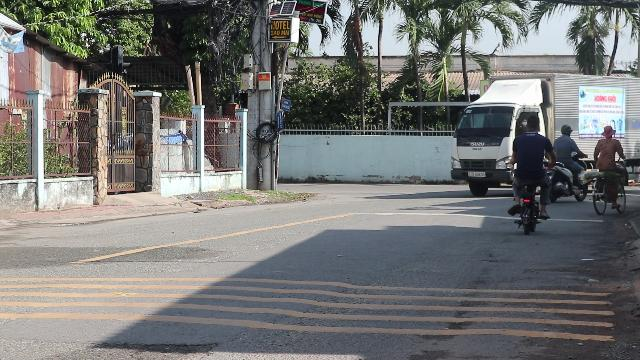motorcyclist: (506, 114, 554, 234)
nohelmet: (523, 114, 541, 132)
